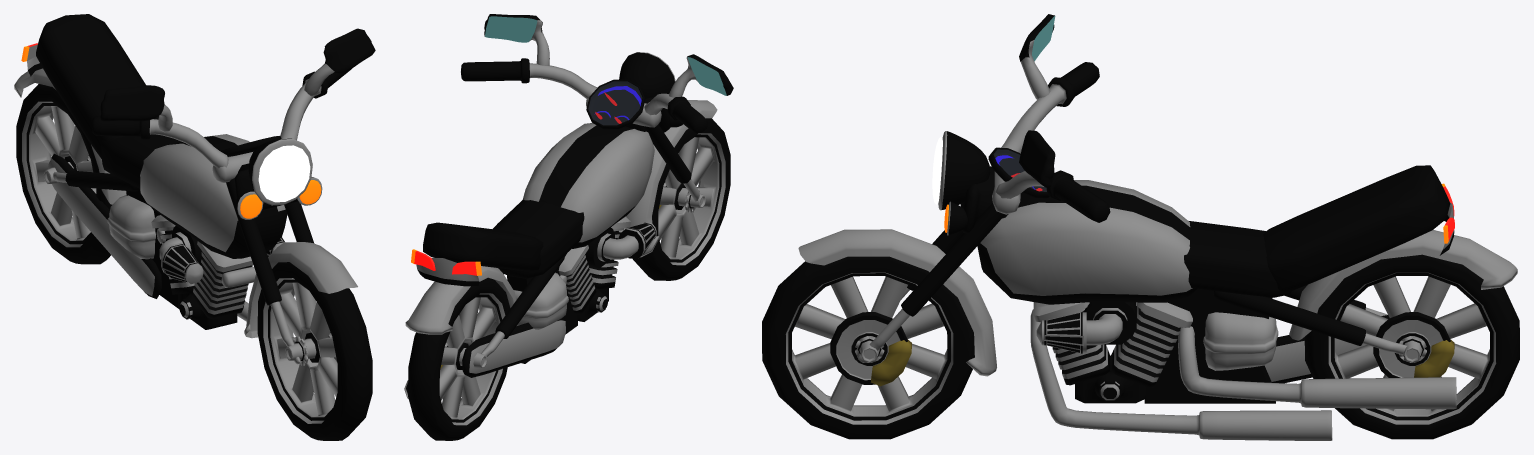
The model's file is МотоциклТест.fbx.
3 renders of one model, left to right at view 1: azimuth 30°, elevation 25°; view 2: azimuth 150°, elevation 25°; view 3: azimuth 270°, elevation 25°, orthographic. The views are drawn at different scales.
Parts seen in each view (by area): view 1: Torus.014, Куб.054, Torus.012, Куб.053, Куб.032, Куб.031, Куб.042, Torus.011, Куб.040, Куб.048, Куб.045, Куб.035 (+16 smaller); view 2: Куб.054, Torus.012, Torus.014, Куб.053, Куб.042, Куб.051, Куб.032, Куб.031, Torus.010, Цилиндр.017, Куб.036, Torus.011 (+14 smaller); view 3: Torus.014, Куб.054, Torus.012, Куб.053, Куб.049, Куб.050, Torus.011, Куб.051, Куб.034, Куб.042, Torus.010, Torus.009 (+13 smaller).
Boxes of the visible parts, <box> form: Torus.014: <box>257,262,372,440</box>; Куб.054: <box>140,134,287,258</box>; Torus.012: <box>16,84,112,264</box>; Куб.053: <box>36,14,158,158</box>; Куб.032: <box>100,28,375,132</box>; Куб.031: <box>48,153,161,298</box>; Куб.042: <box>92,68,352,168</box>; Torus.011: <box>244,242,357,338</box>; Куб.040: <box>192,241,253,319</box>; Куб.048: <box>226,178,314,305</box>; Куб.045: <box>258,145,310,202</box>; Куб.035: <box>107,195,155,259</box>; Куб.054: <box>523,123,654,248</box>; Torus.012: <box>408,277,510,440</box>; Torus.014: <box>633,118,730,280</box>; Куб.053: <box>423,222,543,271</box>; Куб.042: <box>461,58,707,133</box>; Куб.051: <box>492,199,584,278</box>; Куб.032: <box>484,14,733,97</box>; Куб.031: <box>462,317,565,377</box>; Torus.010: <box>405,266,516,334</box>; Цилиндр.017: <box>586,79,645,129</box>; Куб.036: <box>585,222,656,268</box>; Torus.011: <box>625,100,717,258</box>; Torus.014: <box>762,256,974,439</box>; Куб.054: <box>977,180,1197,304</box>; Torus.012: <box>1304,254,1519,439</box>; Куб.053: <box>1263,165,1450,293</box>; Куб.049: <box>1030,309,1332,440</box>; Куб.050: <box>1178,326,1456,409</box>; Torus.011: <box>798,229,996,376</box>; Куб.051: <box>1184,221,1291,297</box>; Куб.034: <box>1144,288,1275,403</box>; Куб.042: <box>995,62,1110,222</box>; Torus.010: <box>1289,230,1517,340</box>; Torus.009: <box>830,312,911,386</box>.
Bounding box in the file's own units: 5.54 × 6.07 × 11.71.
